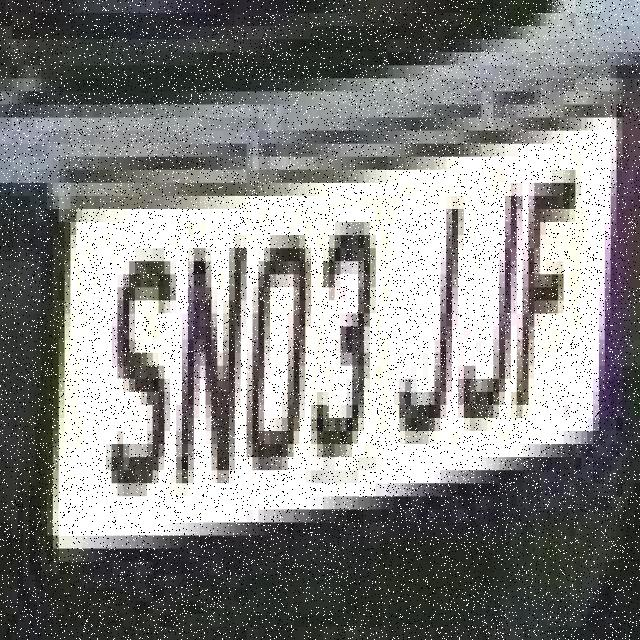licenseplate: (51, 94, 616, 588)
